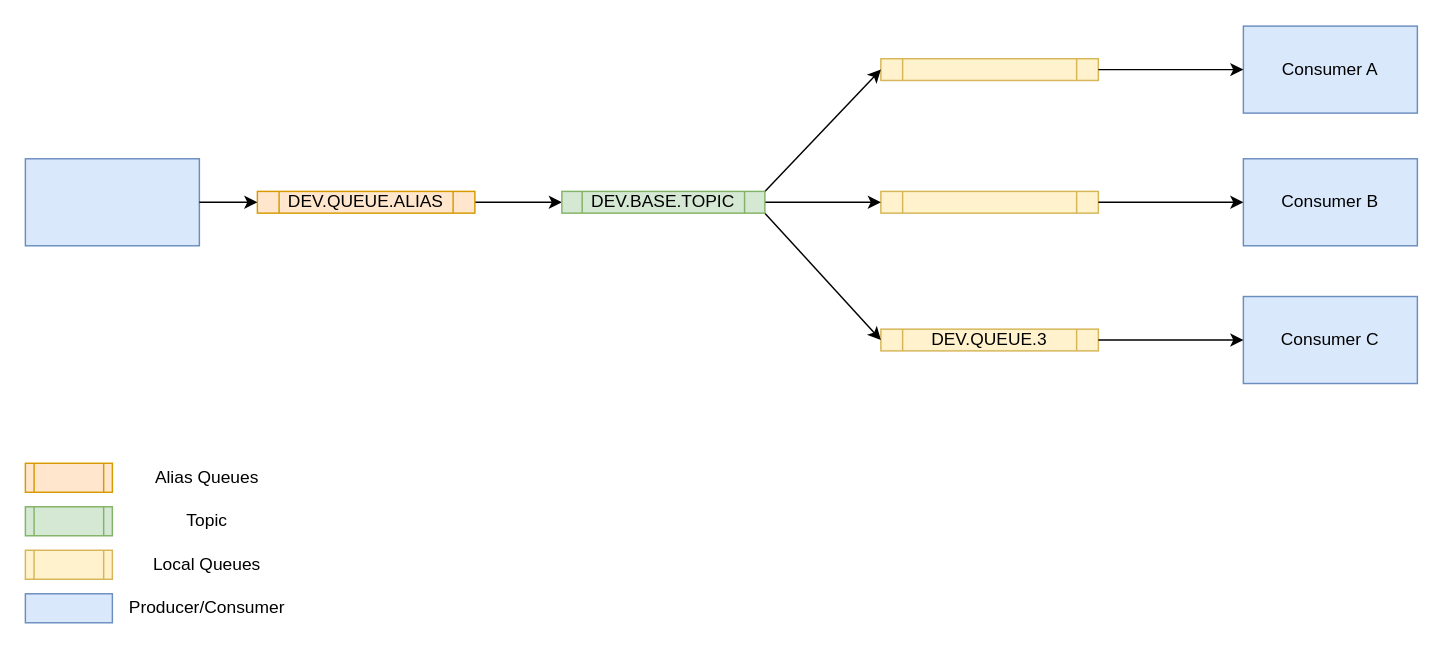
Image size: 1443x648. Some labels were removed from this diagram. Here are the shapes that lost their labels. From the top down, the centre of each, then its label:
[988,68]: DEV.QUEUE.1
[111,201]: Producer
[988,201]: DEV.QUEUE.2
